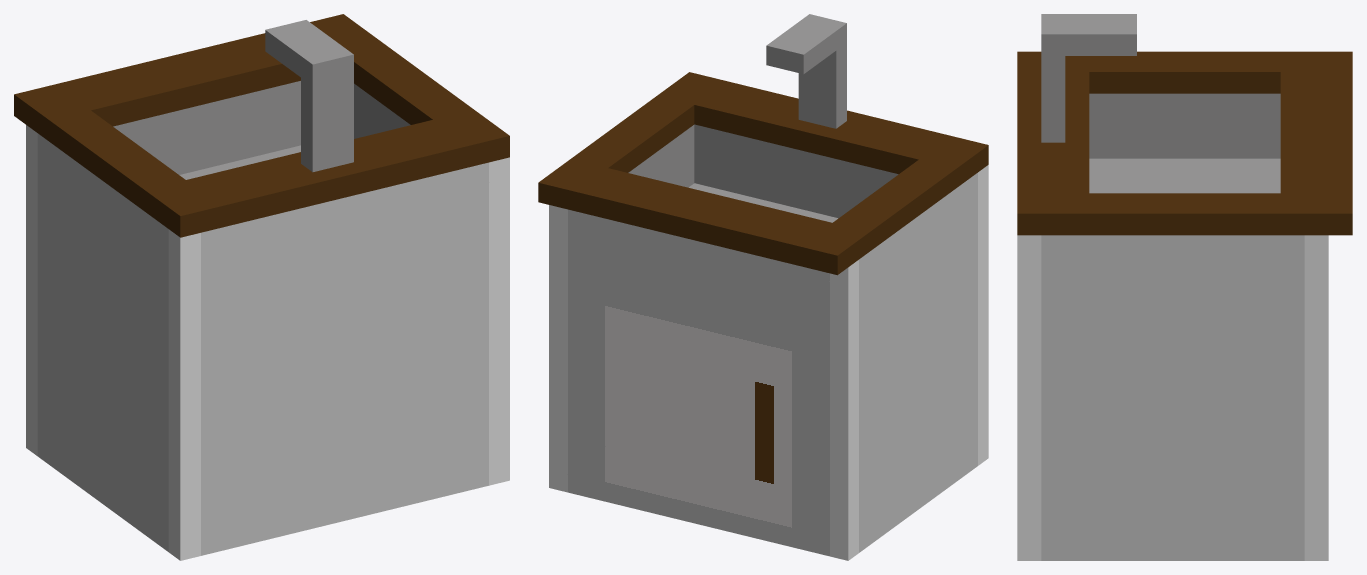
Rendered from sink.gltf.
The picture shows the model from 3 angles, left to right: view 1: azimuth 30°, elevation 25°; view 2: azimuth 150°, elevation 25°; view 3: azimuth 270°, elevation 25°; orthographic projection. The views are drawn at different scales.
Visible parts, largest first — view 1: sink_counter_1, sink_counter_3, sink_countertop_1, sink_countertop_0, sink_wall_0, sink_faucet_base, sink_countertop_2, sink_countertop_3, sink_counter_0, sink_faucet_mouth, sink_wall_3, sink_basin; view 2: sink_counter_0, sink_counter_3, sink_countertop_0, sink_countertop_1, sink_wall_1, sink_countertop_2, sink_countertop_3, sink_faucet_base, sink_counter_1, sink_faucet_mouth, sink_wall_3, sink_basin; view 3: sink_counter_2, sink_countertop_0, sink_wall_2, sink_countertop_1, sink_countertop_3, sink_counter_0, sink_counter_1, sink_countertop_2, sink_basin, sink_faucet_base, sink_faucet_mouth.
Part boxes in pixels (x1,y1,x2,y2): sink_counter_1: [168, 157, 509, 560]; sink_counter_3: [37, 133, 168, 551]; sink_countertop_1: [144, 110, 509, 237]; sink_countertop_0: [14, 14, 378, 141]; sink_wall_0: [113, 81, 300, 174]; sink_faucet_base: [301, 46, 353, 172]; sink_countertop_2: [49, 110, 185, 211]; sink_countertop_3: [346, 40, 473, 124]; sink_counter_0: [26, 125, 37, 455]; sink_faucet_mouth: [265, 20, 341, 77]; sink_wall_3: [354, 83, 410, 138]; sink_basin: [179, 145, 300, 179]; sink_counter_0: [549, 205, 858, 560]; sink_counter_3: [859, 173, 977, 552]; sink_countertop_0: [538, 159, 869, 275]; sink_countertop_1: [657, 72, 988, 187]; sink_wall_1: [694, 124, 898, 218]; sink_countertop_2: [833, 159, 956, 250]; sink_countertop_3: [571, 96, 694, 172]; sink_faucet_base: [798, 14, 846, 128]; sink_counter_1: [978, 165, 988, 465]; sink_faucet_mouth: [766, 22, 836, 74]; sink_wall_3: [628, 125, 694, 187]; sink_basin: [689, 183, 837, 222]; sink_counter_2: [1041, 235, 1304, 560]; sink_countertop_0: [1280, 51, 1352, 235]; sink_wall_2: [1089, 93, 1280, 158]; sink_countertop_1: [1017, 51, 1089, 235]; sink_countertop_3: [1089, 193, 1280, 235]; sink_counter_0: [1304, 235, 1328, 560]; sink_counter_1: [1017, 235, 1041, 560]; sink_countertop_2: [1089, 51, 1280, 93]; sink_basin: [1089, 158, 1280, 193]; sink_faucet_base: [1041, 14, 1065, 142]; sink_faucet_mouth: [1065, 14, 1136, 55].
Bounding box in the file's own units: 1 × 1.31 × 0.875.
Materials: 3 (3 with a texture image).
